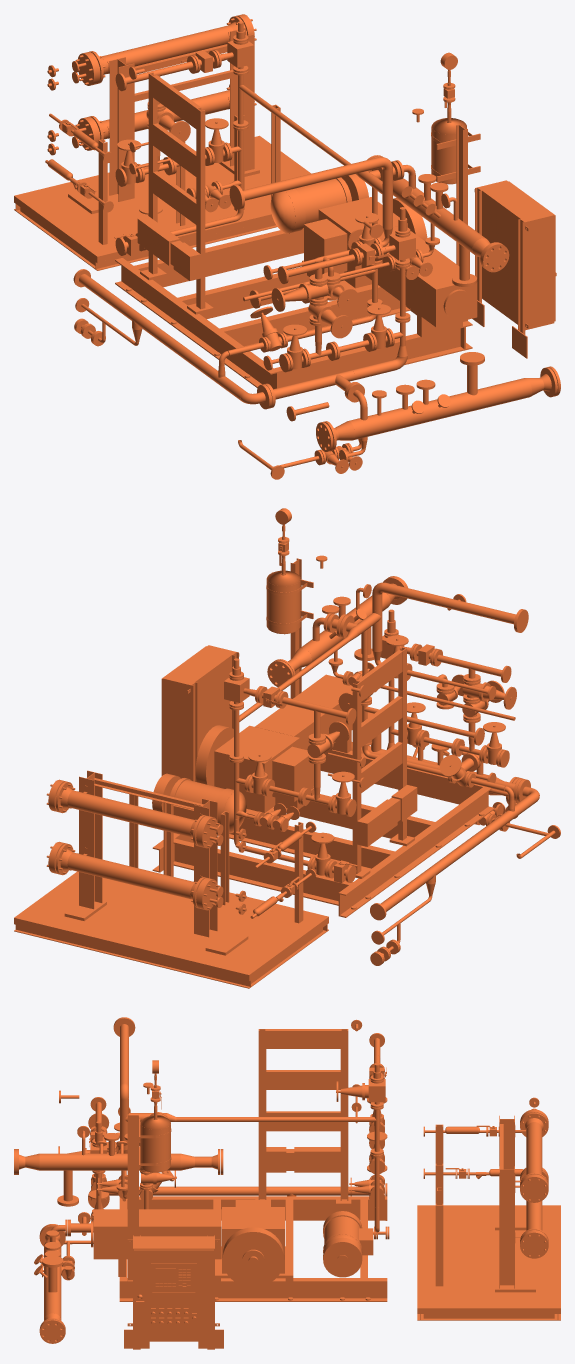
3 views of the same model, one above another, from view 1: azimuth 30°, elevation 25°; view 2: azimuth 150°, elevation 25°; view 3: azimuth 270°, elevation 25° (orthographic). The views are drawn at different scales.
Parts seen in each view (by area): view 1: /Copy-of-V1311A-BASE_COOLER-1, BOX 53 of SUBEQUIPMENT /Copy-of-V-1311A/PAINEL_ELETRICO, /Copy-of-V1311A-BASE_MAIN-MOTOR-2, BOX 8 of SUBEQUIPMENT /Copy-of-V-1311A/MOTOR, /Copy-of-V1311A-BASE_MAIN-MOTOR-8, CYLINDER 3 of SUBEQUIPMENT /Copy-of-V-1311A/VASO_DE_DESCARGA, /Copy-of-V1311A-BASE_MAIN-MOTOR-4, CYLINDER 1 of SUBEQUIPMENT /Copy-of-V-1311A/UNIDADE_LUBRIFIC (×2), /Copy-of-V1311A-SUP_OIL-COOLER-2, /Copy-of-V1311A-BASE_MAIN-MOTOR-6, /Copy-of-V1311A-BASE_MAIN-MOTOR-5, /Copy-of-V1311A-SUP_INSTRUMENTS-GAUGE-3 (+35 smaller); view 2: /Copy-of-V1311A-BASE_COOLER-1, BOX 53 of SUBEQUIPMENT /Copy-of-V-1311A/PAINEL_ELETRICO, /Copy-of-V1311A-BASE_MAIN-MOTOR-2, CYLINDER 1 of SUBEQUIPMENT /Copy-of-V-1311A/UNIDADE_LUBRIFIC (×2), /Copy-of-V1311A-BASE_MAIN-MOTOR-4, BOX 7 of SUBEQUIPMENT /Copy-of-V-1311A/MOTOR, BOX 8 of SUBEQUIPMENT /Copy-of-V-1311A/MOTOR, /Copy-of-V1311A-BASE_MAIN-MOTOR-5, /Copy-of-V1311A-BASE_MAIN-MOTOR-8, CYLINDER 22 of SUBEQUIPMENT /Copy-of-V-1311A/UNIDADE_LUBRIFI, /Copy-of-V1311A-SUP_OIL-COOLER-1, /Copy-of-V1311A-BASE_COOLER-2 (+25 smaller); view 3: /Copy-of-V1311A-BASE_COOLER-1, BOX 6 of SUBEQUIPMENT /Copy-of-V-1311A/PAINEL_ELETRICO, BOX 8 of SUBEQUIPMENT /Copy-of-V-1311A/MOTOR, /Copy-of-V1311A-BASE_MAIN-MOTOR-3, /Copy-of-V1311A-BASE_MAIN-MOTOR-2, CYLINDER 13 of SUBEQUIPMENT /Copy-of-V-1311A/MOTOR, CYLINDER 1 of SUBEQUIPMENT /Copy-of-V-1311A/UNIDADE_LUBRIFIC (×2), /Copy-of-V1311A-SUP_OIL-COOLER-1, BOX 7 of SUBEQUIPMENT /Copy-of-V-1311A/MOTOR, CYLINDER 3 of SUBEQUIPMENT /Copy-of-V-1311A/VASO_DE_SUCCAO, /Copy-of-V1311A-SUP_TANQUEXX, /Copy-of-V1311A-SUP_INSTRUMENTS-GAUGE-5 (+26 smaller).
Part boxes in pixels (x1,y1,x2,y2): /Copy-of-V1311A-BASE_COOLER-1: (14,135,310,262); BOX 53 of SUBEQUIPMENT /Copy-of-V-1311A/PAINEL_ELETRICO: (478,180,554,330); /Copy-of-V1311A-BASE_MAIN-MOTOR-2: (115,258,278,389); BOX 8 of SUBEQUIPMENT /Copy-of-V-1311A/MOTOR: (361,226,477,327); /Copy-of-V1311A-BASE_MAIN-MOTOR-8: (274,325,464,387); CYLINDER 3 of SUBEQUIPMENT /Copy-of-V-1311A/VASO_DE_DESCARGA: (349,378,531,440); /Copy-of-V1311A-BASE_MAIN-MOTOR-4: (134,228,303,287); CYLINDER 1 of SUBEQUIPMENT /Copy-of-V-1311A/UNIDADE_LUBRIFIC (×2): (101,25,466,182); /Copy-of-V1311A-SUP_OIL-COOLER-2: (109,57,134,201); /Copy-of-V1311A-BASE_MAIN-MOTOR-6: (219,292,410,346); /Copy-of-V1311A-BASE_MAIN-MOTOR-5: (177,273,309,318); /Copy-of-V1311A-SUP_INSTRUMENTS-GAUGE-3: (196,107,205,309); /Copy-of-V1311A-BASE_COOLER-1: (14,871,328,980); BOX 53 of SUBEQUIPMENT /Copy-of-V-1311A/PAINEL_ELETRICO: (163,645,235,779); /Copy-of-V1311A-BASE_MAIN-MOTOR-2: (338,786,494,917); CYLINDER 1 of SUBEQUIPMENT /Copy-of-V-1311A/UNIDADE_LUBRIFIC (×2): (67,578,300,837); /Copy-of-V1311A-BASE_MAIN-MOTOR-4: (173,838,352,905); BOX 7 of SUBEQUIPMENT /Copy-of-V-1311A/MOTOR: (214,725,299,812); BOX 8 of SUBEQUIPMENT /Copy-of-V-1311A/MOTOR: (255,674,362,749); /Copy-of-V1311A-BASE_MAIN-MOTOR-5: (218,819,394,870); /Copy-of-V1311A-BASE_MAIN-MOTOR-8: (320,749,483,804); CYLINDER 22 of SUBEQUIPMENT /Copy-of-V-1311A/UNIDADE_LUBRIFI: (67,852,194,899); /Copy-of-V1311A-SUP_OIL-COOLER-1: (79,770,102,909); /Copy-of-V1311A-BASE_COOLER-2: (14,923,252,988); /Copy-of-V1311A-BASE_COOLER-1: (417,1205,560,1313); BOX 6 of SUBEQUIPMENT /Copy-of-V-1311A/PAINEL_ELETRICO: (134,1249,213,1341); BOX 8 of SUBEQUIPMENT /Copy-of-V-1311A/MOTOR: (93,1209,221,1259); /Copy-of-V1311A-BASE_MAIN-MOTOR-3: (119,1278,387,1301); /Copy-of-V1311A-BASE_MAIN-MOTOR-2: (119,1196,387,1220); CYLINDER 13 of SUBEQUIPMENT /Copy-of-V-1311A/MOTOR: (222,1227,284,1287); CYLINDER 1 of SUBEQUIPMENT /Copy-of-V-1311A/UNIDADE_LUBRIFIC (×2): (140,1122,542,1174); /Copy-of-V1311A-SUP_OIL-COOLER-1: (499,1166,514,1288); BOX 7 of SUBEQUIPMENT /Copy-of-V-1311A/MOTOR: (222,1207,284,1273); CYLINDER 3 of SUBEQUIPMENT /Copy-of-V-1311A/VASO_DE_SUCCAO: (39,1153,180,1170); /Copy-of-V1311A-SUP_TANQUEXX: (127,1114,138,1280); /Copy-of-V1311A-SUP_INSTRUMENTS-GAUGE-5: (266,1029,340,1048).
Bounding box in the file's own units: 3.27 × 5.34 × 3.04.
